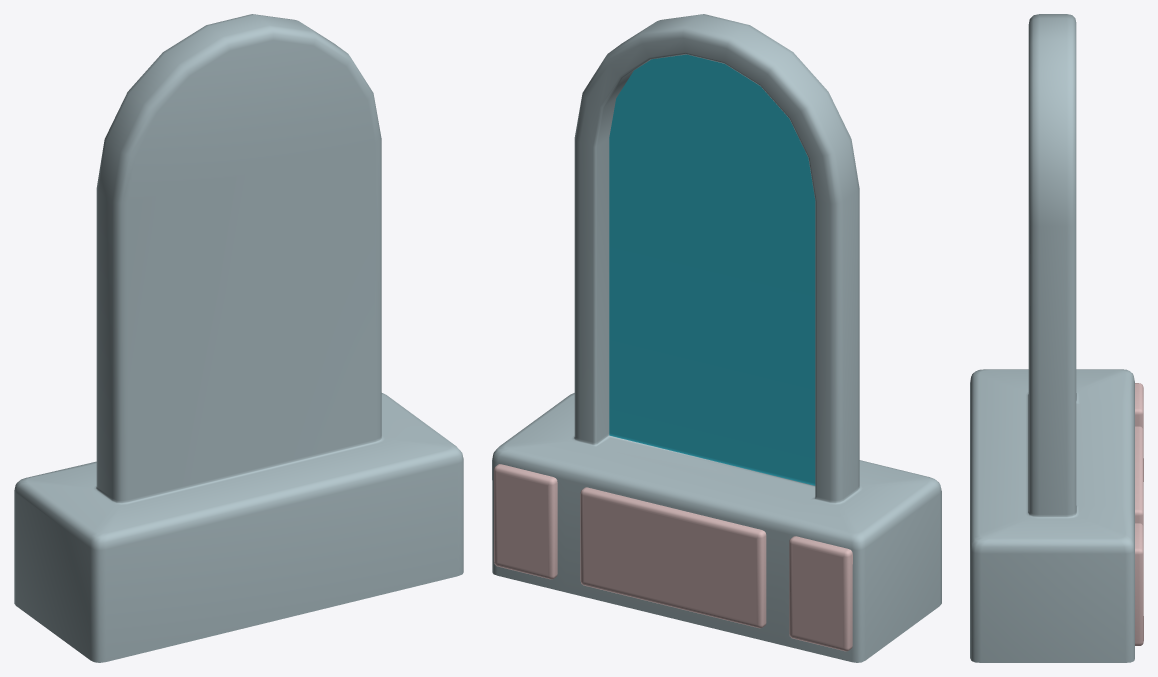
Rendered from Mirror.FBX.
The picture shows the model from 3 angles, left to right: view 1: azimuth 30°, elevation 25°; view 2: azimuth 150°, elevation 25°; view 3: azimuth 270°, elevation 25°; orthographic projection. The views are drawn at different scales.
Visible parts, largest first — view 1: Mirror; view 2: Mirror; view 3: Mirror.
Boxes of the visible parts, left/top/right/bottom form: Mirror: left=14, top=14, right=463, bottom=662; Mirror: left=492, top=14, right=941, bottom=662; Mirror: left=970, top=14, right=1143, bottom=662.
Size of the model in its own units: 29.04 by 41.98 by 12.11.
